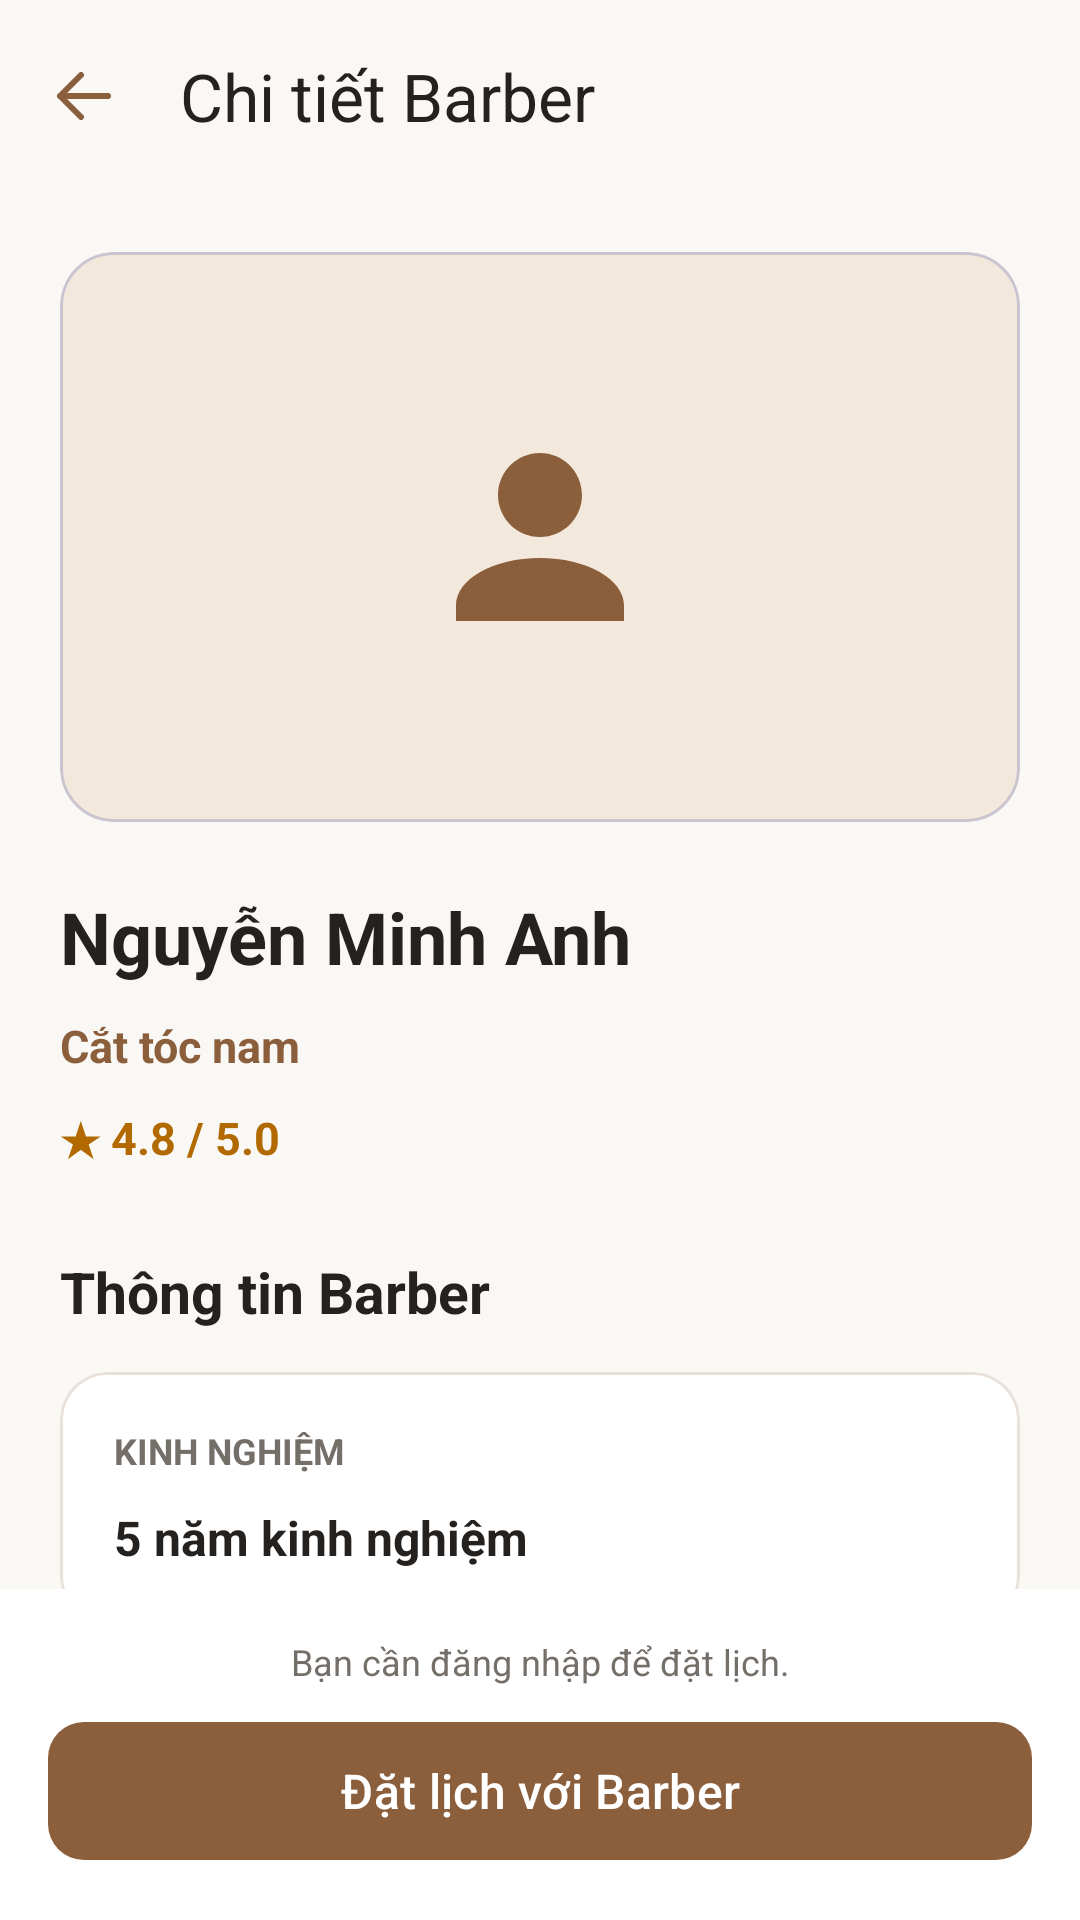

Where to tap for icons on this 1080*1920 app screen, as (x=x, y=y):
Ảnh đại diện Barber: (x=540, y=537)
